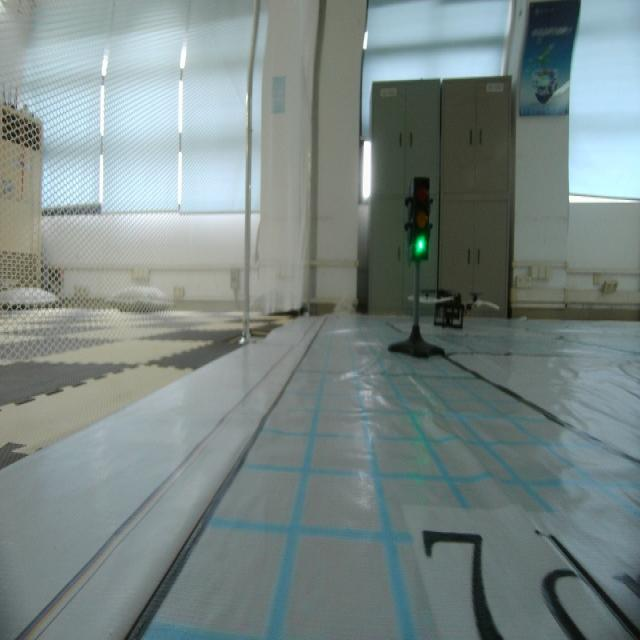green: (404, 172, 436, 267)
